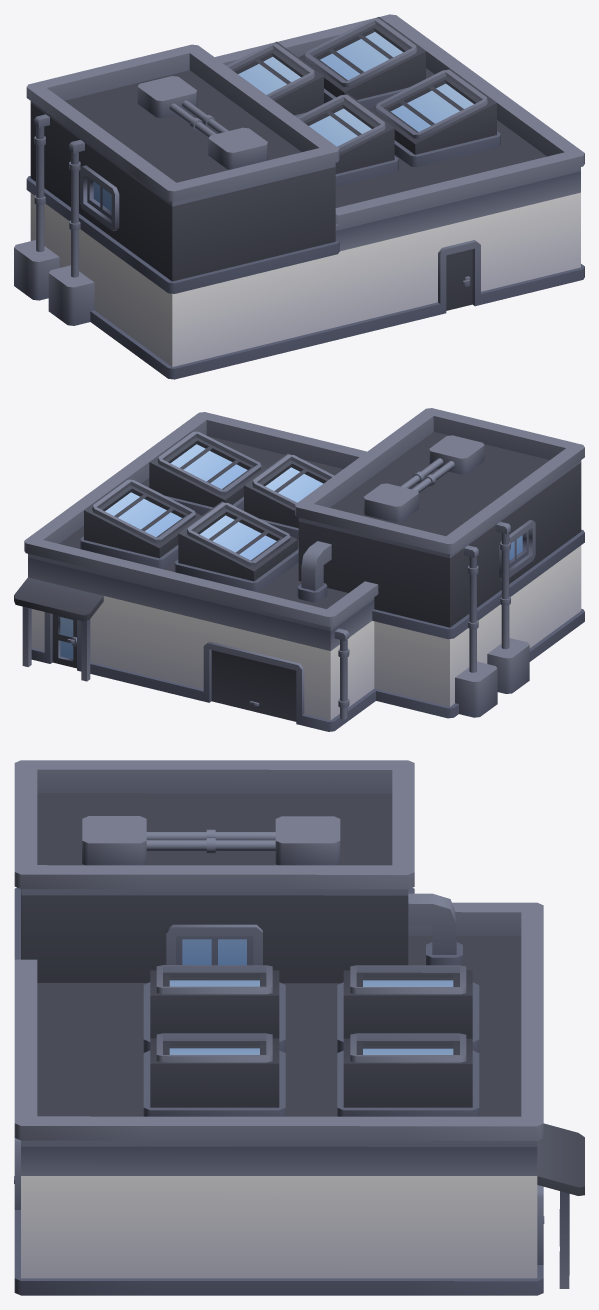
File: building-q_lev1.glb
3 renders of one model, top to bottom at view 1: azimuth 30°, elevation 25°; view 2: azimuth 150°, elevation 25°; view 3: azimuth 270°, elevation 25°, orthographic. The views are drawn at different scales.
Parts seen in each view (by area): view 1: building-q_lev1; view 2: building-q_lev1; view 3: building-q_lev1.
Boxes of the visible parts, bbox=[...] form: building-q_lev1: bbox=[14, 14, 584, 379]; building-q_lev1: bbox=[14, 408, 584, 731]; building-q_lev1: bbox=[14, 760, 584, 1295].
Bounding box in the file's own units: 2.14 × 0.8809 × 1.77.
Materials: 1 (1 with a texture image).
